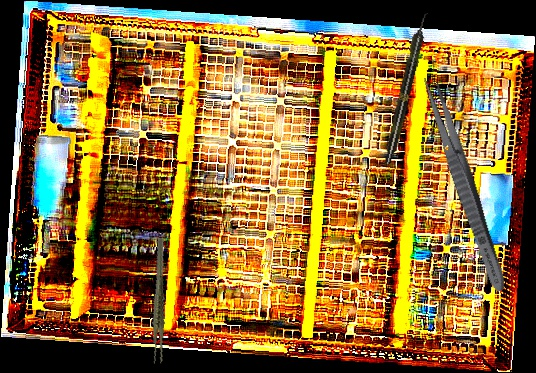Dressing Forceps: (416, 73, 513, 295)
Handpiece: (381, 10, 432, 166)
Tissue Forceps: (131, 237, 188, 366)
